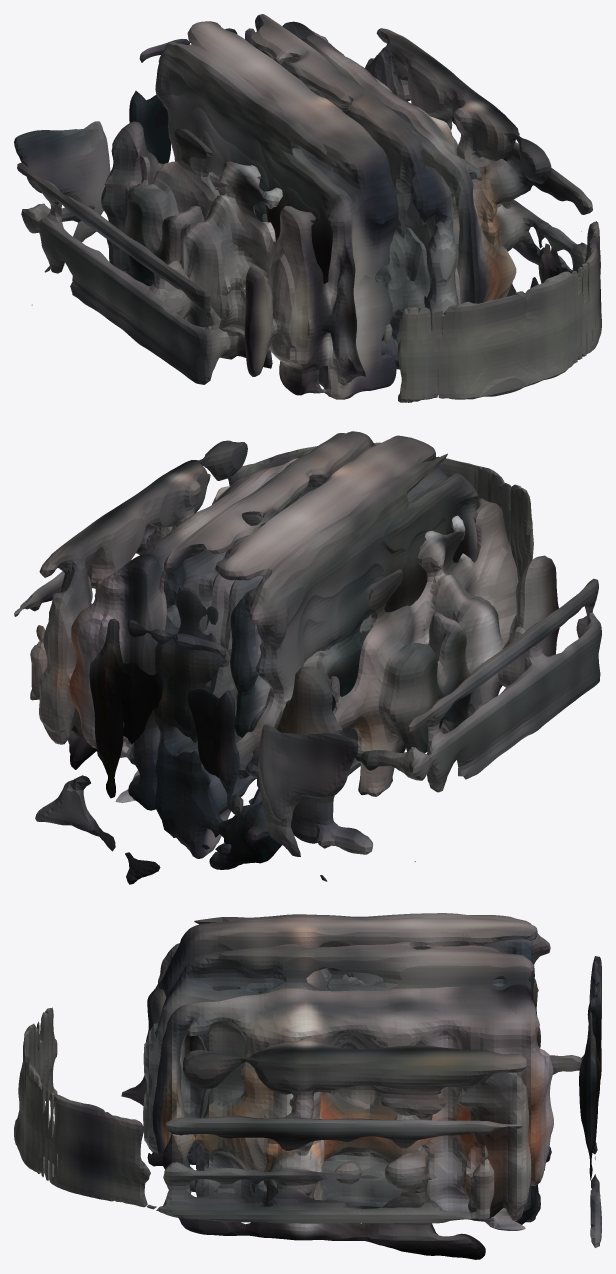
Rendered from a_futuristic_smart_lamp.0.glb.
3 views of the same model, one above another, from view 1: azimuth 30°, elevation 25°; view 2: azimuth 150°, elevation 25°; view 3: azimuth 270°, elevation 25° (orthographic). The views are drawn at different scales.
Parts seen in each view (by area): view 1: a_futuristic_smart_lamp.0.obj; view 2: a_futuristic_smart_lamp.0.obj; view 3: a_futuristic_smart_lamp.0.obj.
Boxes of the visible parts, left/top/right/bottom form: a_futuristic_smart_lamp.0.obj: left=14, top=14, right=601, bottom=402; a_futuristic_smart_lamp.0.obj: left=14, top=431, right=601, bottom=884; a_futuristic_smart_lamp.0.obj: left=14, top=913, right=601, bottom=1259.
Bounding box in the file's own units: 1.5 × 1.08 × 1.98.
